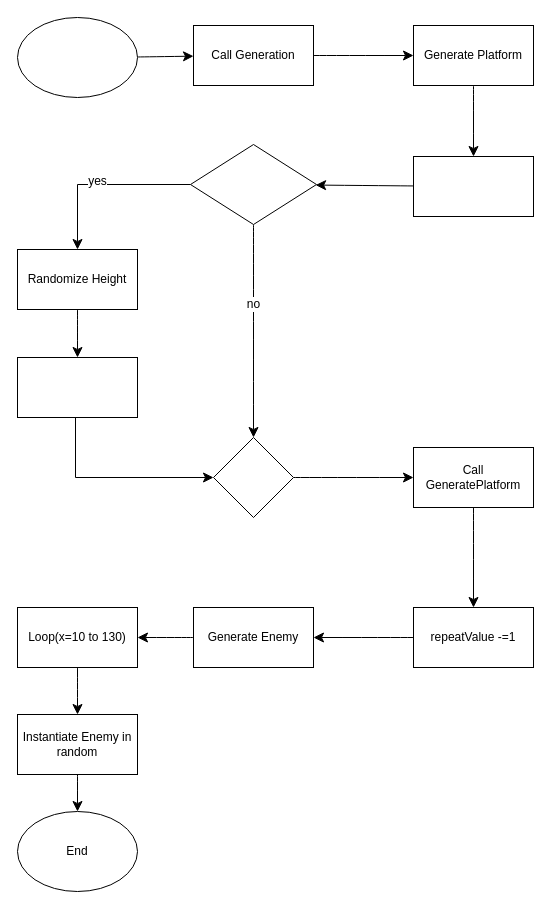
This 551x909 diagram has some shape labels left out. The shapes that lost their labels are listed below. From the top down, each one's centre as x and y in pixels, then its label:
At [77,57]: "Start".
At [253,184]: "repeatValue = 0?".
At [473,186]: "loop (x=0 to width)".
At [77,387]: "reset repeatValue".
